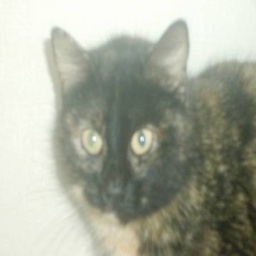cat: (43, 12, 256, 256)
